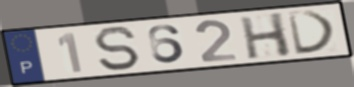1: (56, 31, 84, 74)
2: (192, 18, 241, 64)
6: (146, 24, 187, 65)
D: (285, 10, 339, 57)
H: (237, 11, 295, 61)
S: (91, 25, 142, 72)
